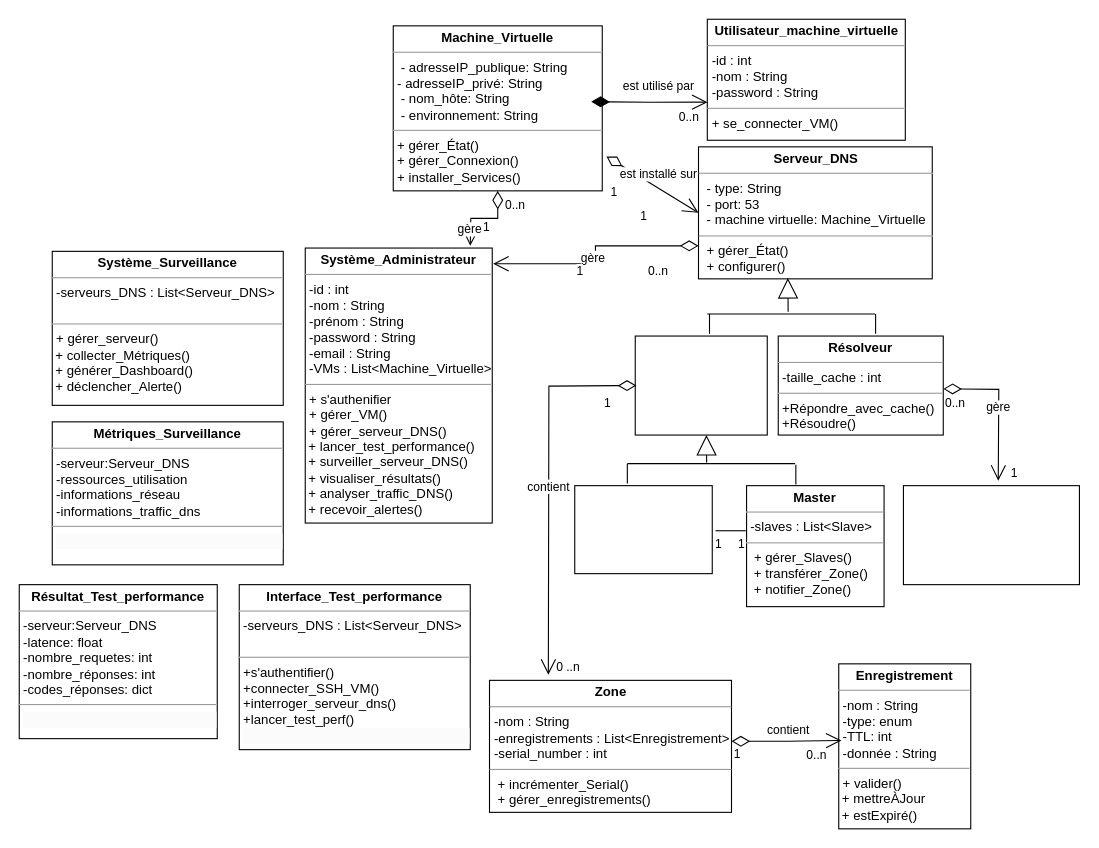
This 1099x848 diagram has some shape labels left out. Each missing label, with the centre of its shape:
Faisant_Autorité -zones : List<Zone> - rôle: String: point 700,385
Load_Balancer -backends : List<Résolveur> + gérer_Backends() + répartir_Charge(): point 990,535
Slave -master : Master + mettreÀJour _Zone(): point 643,529
